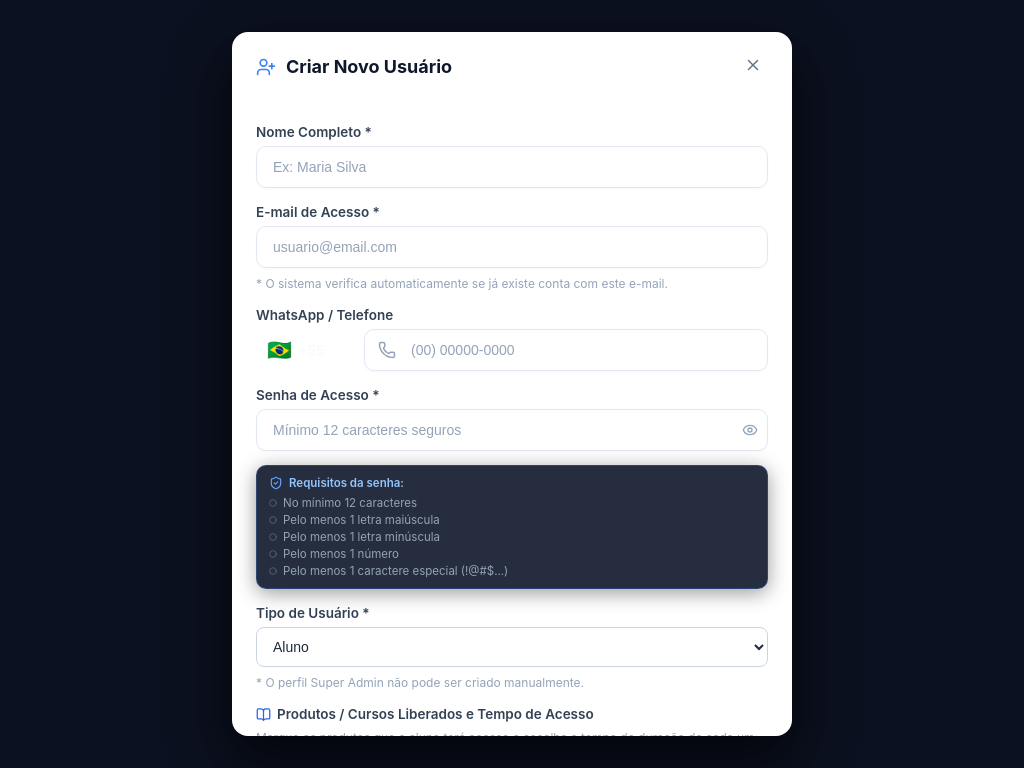
Scenario: CreateUserManualModal Component › renders all form fields, starts completely blank, and toggles password visibility
This screenshot has width=1024, height=768.
Expected: the heading "Criar Novo Usuário" is shown, [286, 56, 452, 77]
Expected: the field with test id "create-user-name-input" is empty, [256, 146, 768, 188]
Clica no toggle de ver senha
Click the button with test id "create-user-toggle-password-btn".
click(750, 430)  # box [742, 422, 758, 438]
(page scrolled)
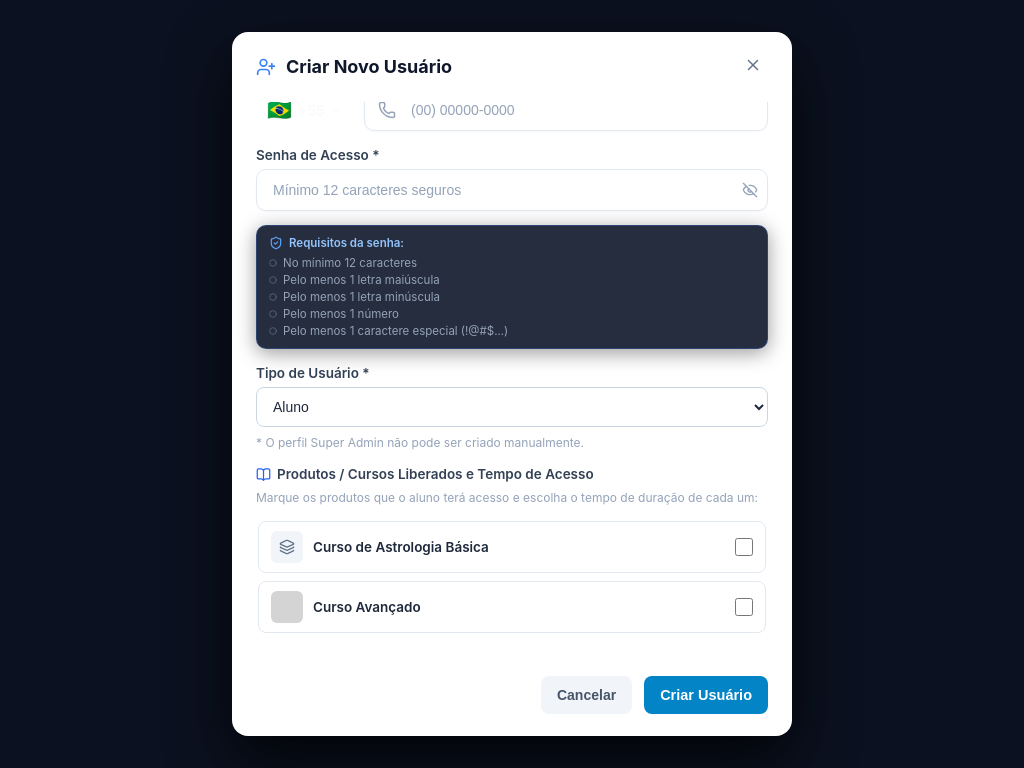
Expected: the dropdown with test id "create-user-role-select" shows "Aluno", [256, 387, 768, 427]
Expected: the text "Curso de Astrologia Básica" is shown, [313, 539, 489, 555]
